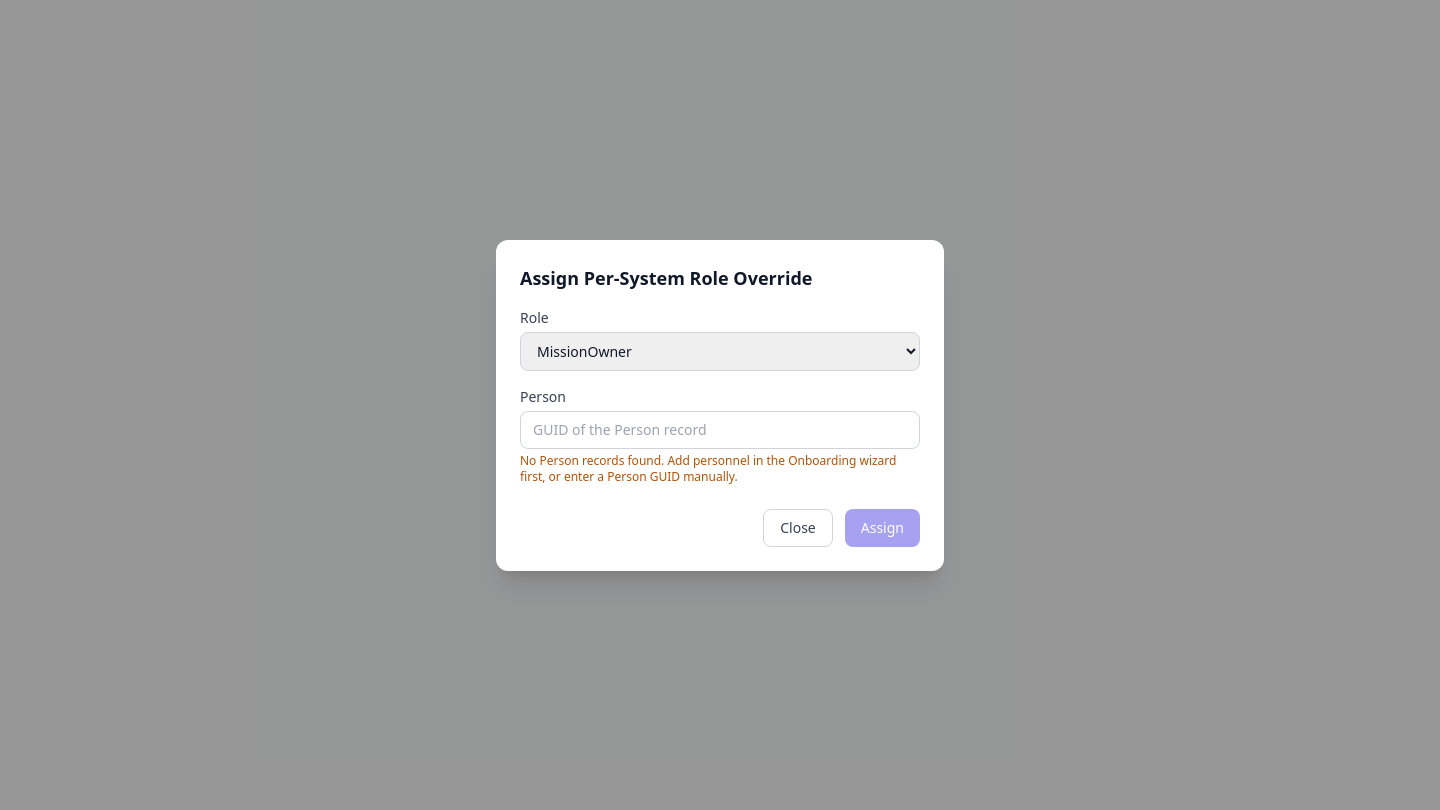
Test: AssignRoleDialog › renders inline error block when server returns 403 RBAC_ROLE_ASSIGN_DENIED
Type "33333333-3333-3333-3333-333333333333" into the field labelled "Person". click: (720, 430)
box: [520,410,920,448]
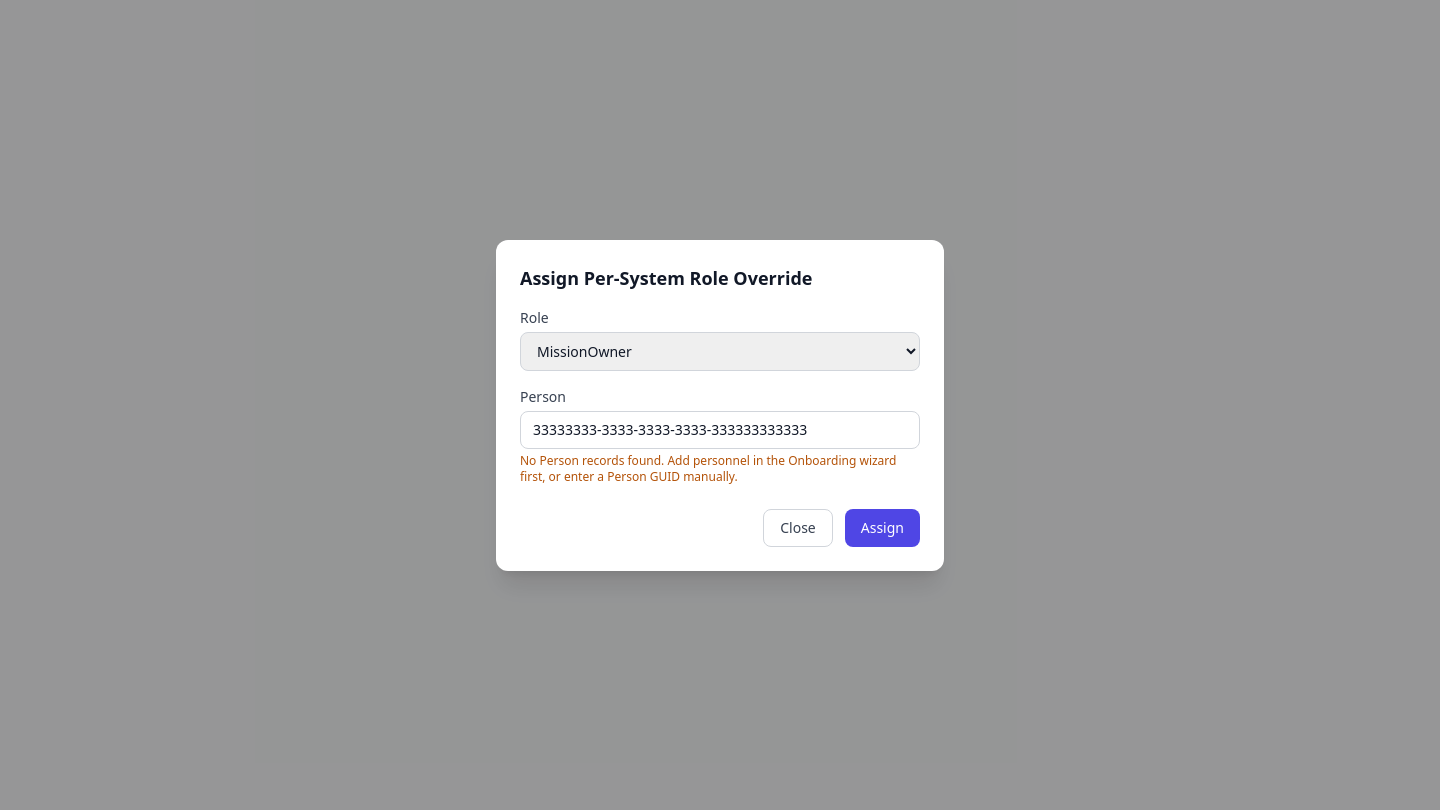
Click the button "Assign". click: (882, 528)
box: [845,508,920,546]
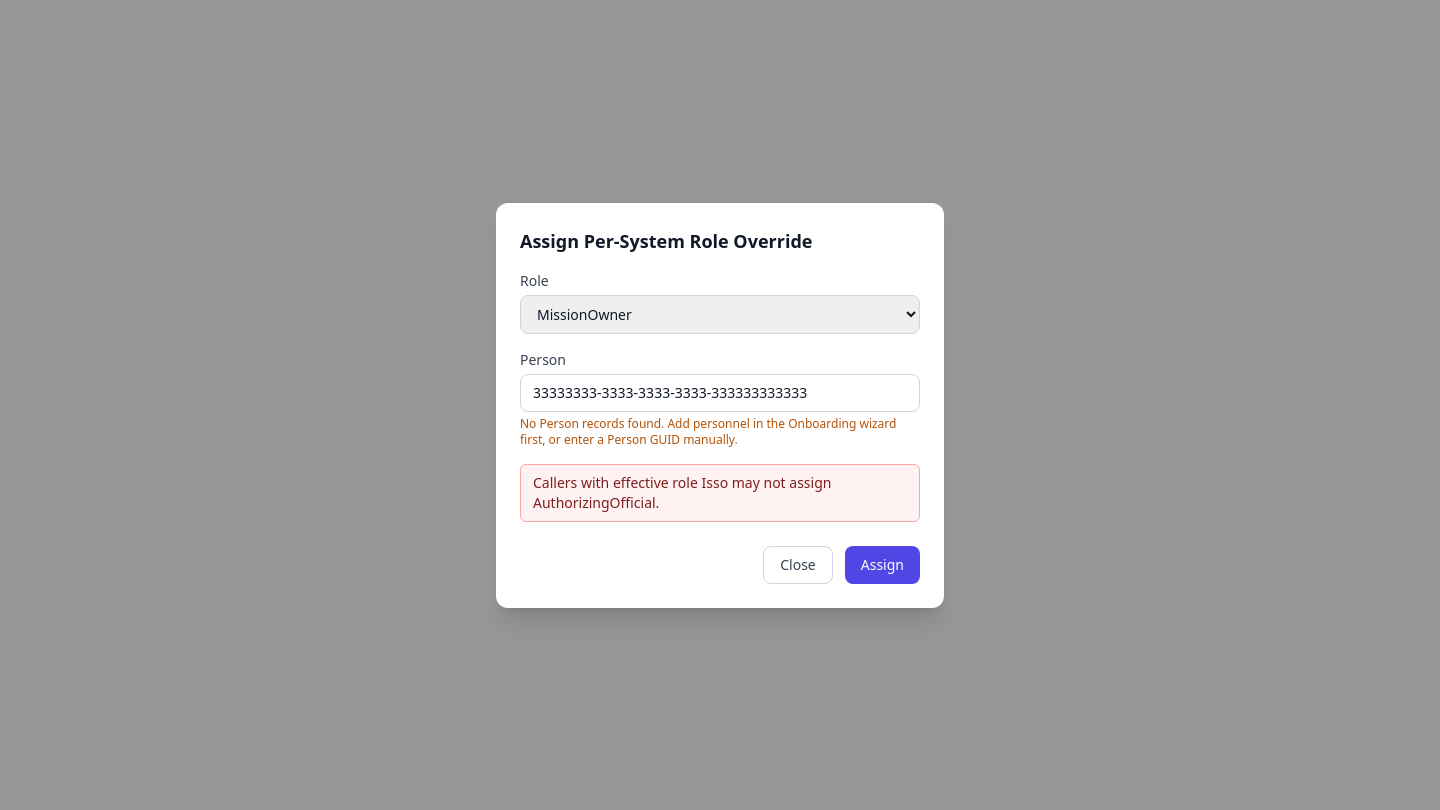
Check: the text "Callers with effective role Isso may not assign AuthorizingOfficial." is shown, box [520,464,920,522]
